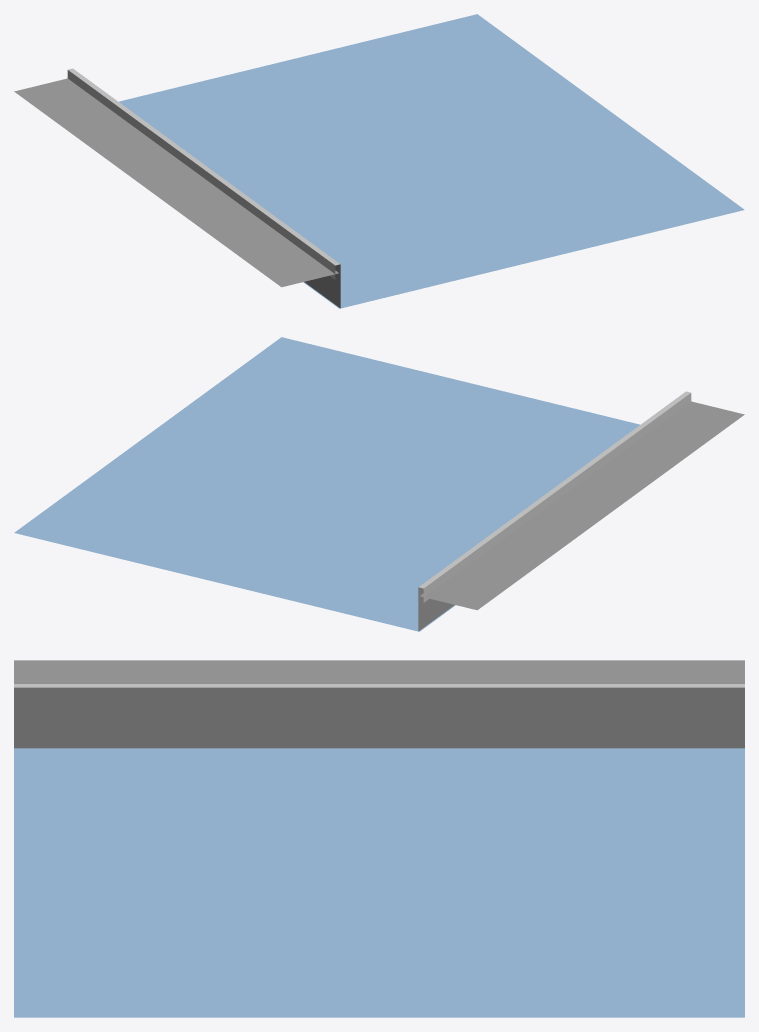
File: road_tile_river_2x2_007.glb
3 renders of one model, top to bottom at view 1: azimuth 30°, elevation 25°; view 2: azimuth 150°, elevation 25°; view 3: azimuth 270°, elevation 25°, orthographic. The views are drawn at different scales.
Parts seen in each view (by area): view 1: road_tile_river_2x2_007; view 2: road_tile_river_2x2_007; view 3: road_tile_river_2x2_007.
Boxes of the visible parts, x1,y1,x2,y2 form: road_tile_river_2x2_007: [14, 14, 744, 308]; road_tile_river_2x2_007: [14, 337, 744, 631]; road_tile_river_2x2_007: [14, 660, 744, 1017].
Size of the model in its own units: 16 by 1.46 by 16.
1 material, 1 textured.
